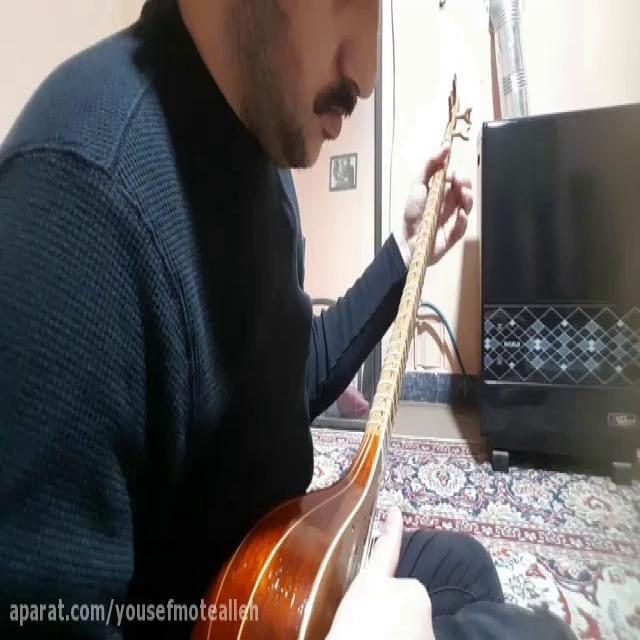Setar: (179, 60, 471, 639)
